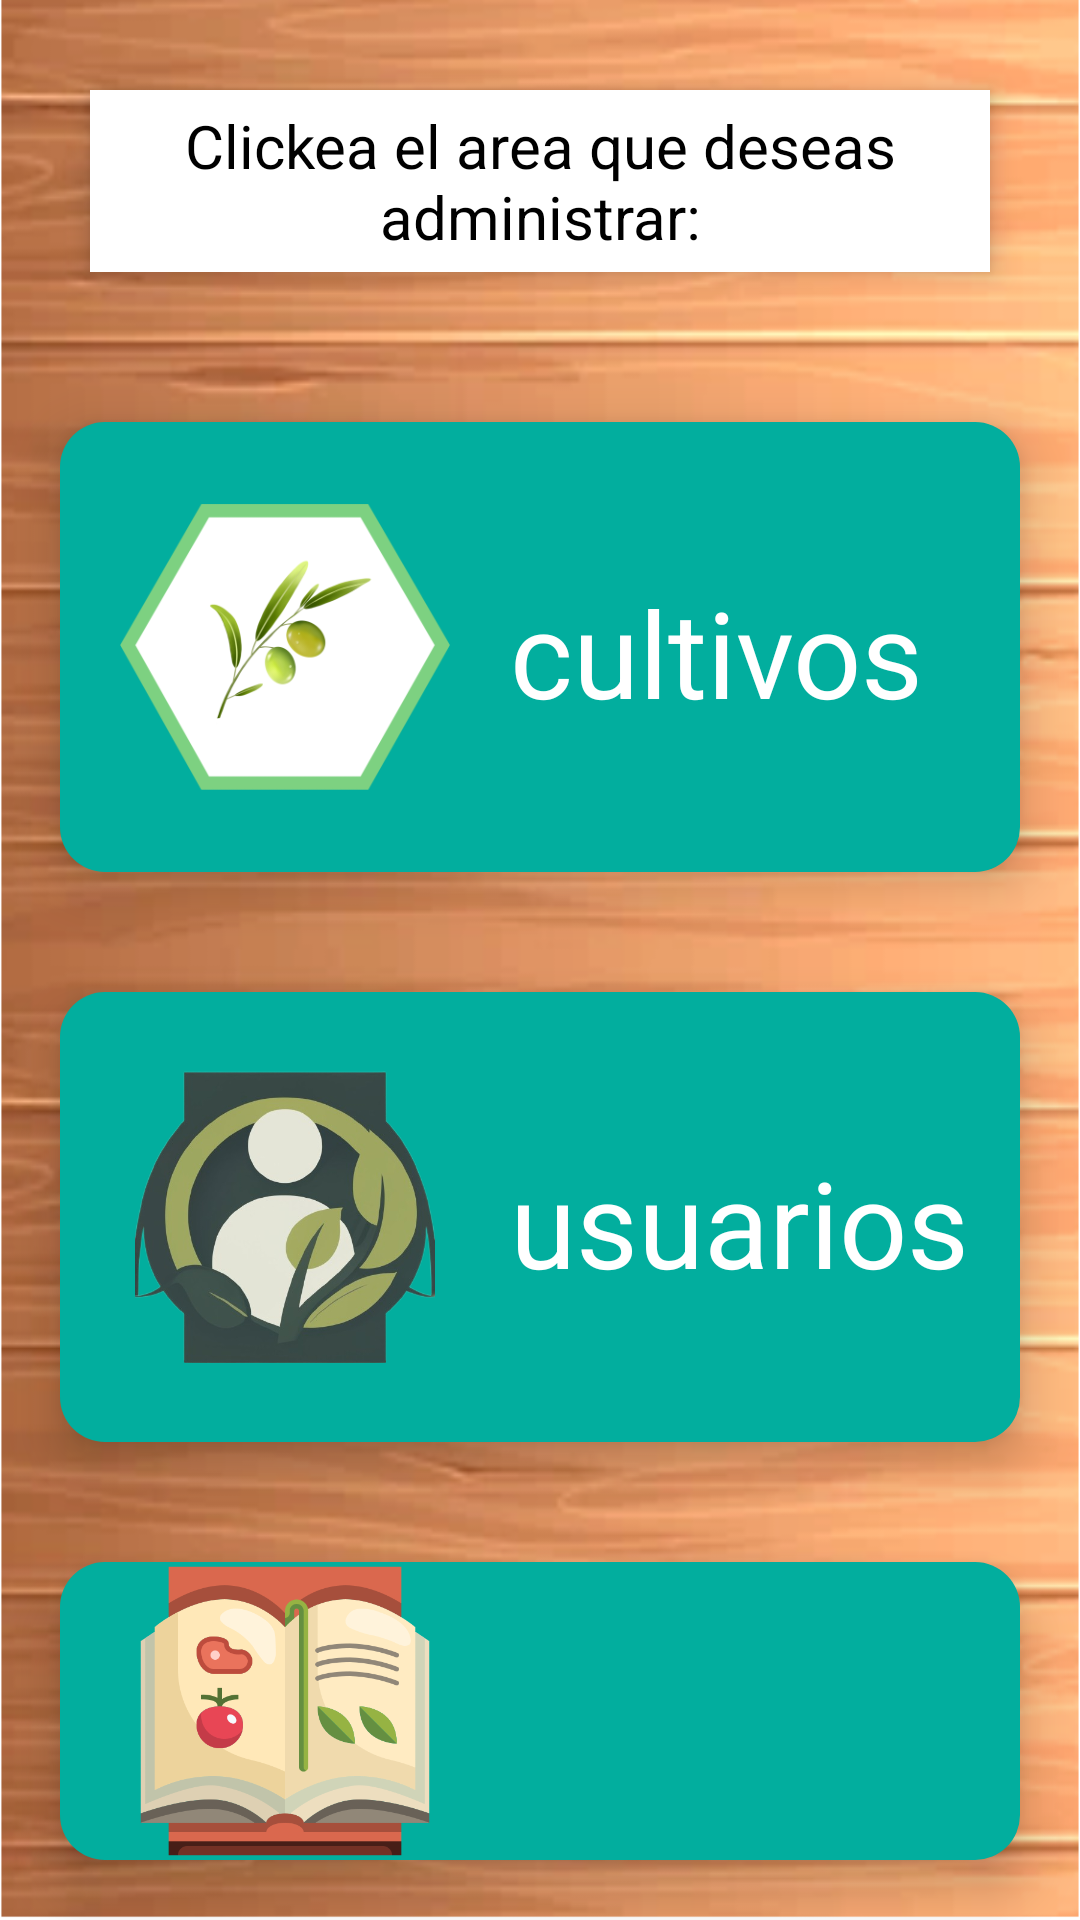

Screen size 1080px×1920px. Icon name, then its box in pixels as (x1, y1, x2, y2):
aceituna: (120, 504, 450, 790)
cook book: (140, 1566, 430, 1856)
user: (135, 1072, 435, 1363)
